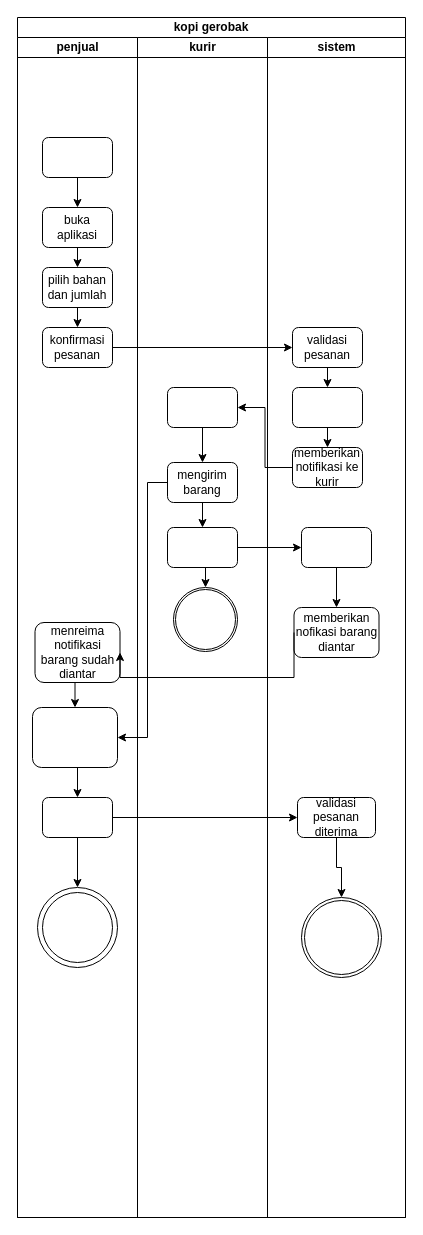
This 423x1235 diagram has some shape labels left out. Each missing label, with the centre of its shape:
assign kurir: (x=327, y=407)
konfirmasi pesanan diterima: (x=77, y=817)
menerima notifikasi dari sistem: (x=202, y=407)
mengkonfirmasi pengiriman ke sistem: (x=202, y=547)
menunggu dan menerima barang dari kurir: (x=75, y=737)
periksa stok kopi: (x=77, y=157)
validasi pengiriman: (x=336, y=547)
